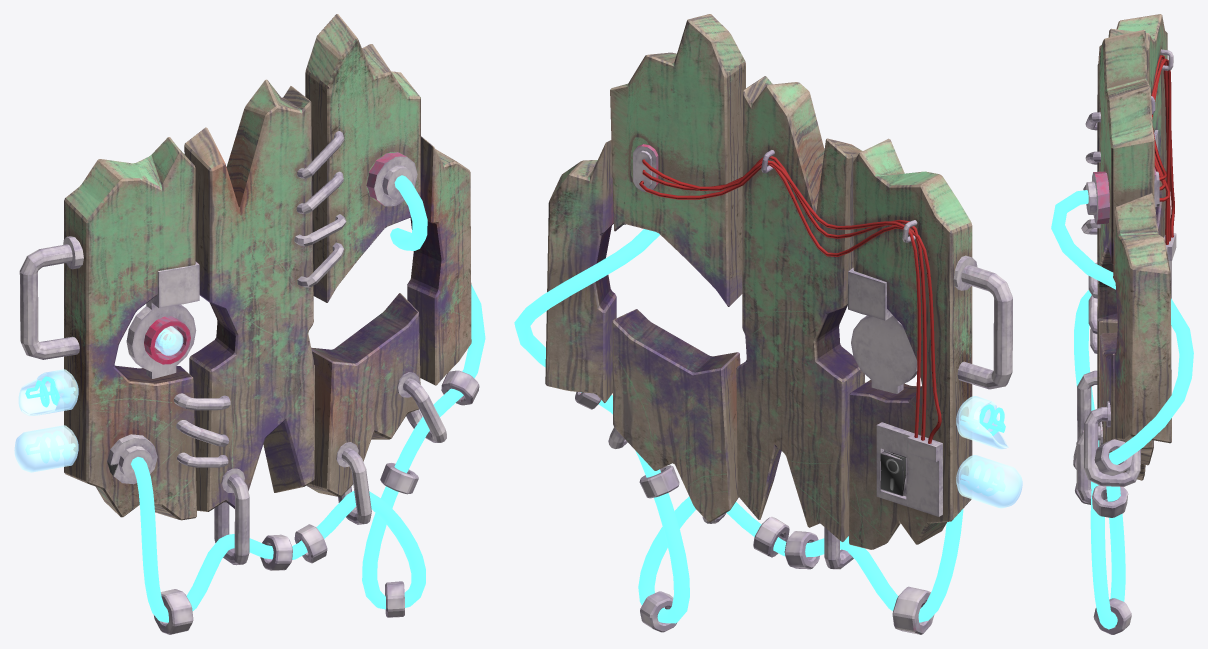
3 renders of one model, left to right at view 1: azimuth 30°, elevation 25°; view 2: azimuth 150°, elevation 25°; view 3: azimuth 270°, elevation 25°, orthographic. The views are drawn at different scales.
Parts seen in each view (by area): view 1: Cube, Cylinder.006, BezierCurve, tooth_ring.004, Cylinder, Cylinder.008, BezierCurve.001; view 2: Cube, BezierCurve, Cylinder.006, Cylinder, tooth_ring.004, Cube.001, Cylinder.008, BezierCurve.002, BezierCurve.004, BezierCurve.003, BezierCurve.001; view 3: Cube, BezierCurve, Cylinder.006, tooth_ring.004, BezierCurve.004, BezierCurve.002, BezierCurve.003, Cube.001.
Boxes of the visible parts, x1=… form: Cube: x1=64, y1=14, x2=471, y2=520; Cylinder.006: x1=19, y1=131, x2=446, y2=565; BezierCurve: x1=131, y1=175, x2=485, y2=622; tooth_ring.004: x1=154, y1=370, x2=479, y2=634; Cylinder: x1=126, y1=261, x2=199, y2=378; Cylinder.008: x1=14, y1=326, x2=183, y2=472; BezierCurve.001: x1=25, y1=375, x2=74, y2=462; Cube: x1=545, y1=14, x2=972, y2=549; BezierCurve: x1=514, y1=229, x2=963, y2=623; Cylinder.006: x1=608, y1=144, x2=1012, y2=569; Cylinder: x1=848, y1=267, x2=917, y2=393; tooth_ring.004: x1=575, y1=391, x2=934, y2=634; Cube.001: x1=876, y1=422, x2=942, y2=516; Cylinder.008: x1=956, y1=396, x2=1022, y2=508; BezierCurve.002: x1=639, y1=164, x2=941, y2=443; BezierCurve.004: x1=642, y1=159, x2=921, y2=437; BezierCurve.003: x1=642, y1=156, x2=926, y2=440; BezierCurve.001: x1=960, y1=402, x2=1005, y2=495; Cube: x1=1097, y1=14, x2=1171, y2=480; BezierCurve: x1=1051, y1=190, x2=1193, y2=629; Cylinder.006: x1=1076, y1=112, x2=1159, y2=503; tooth_ring.004: x1=1073, y1=439, x2=1133, y2=634; BezierCurve.004: x1=1151, y1=58, x2=1171, y2=244; BezierCurve.002: x1=1152, y1=59, x2=1174, y2=237; BezierCurve.003: x1=1153, y1=55, x2=1170, y2=241; Cube.001: x1=1164, y1=233, x2=1176, y2=298.
Bounding box in the file's own units: 581 × 712 × 158.
5 materials, 5 textured.
